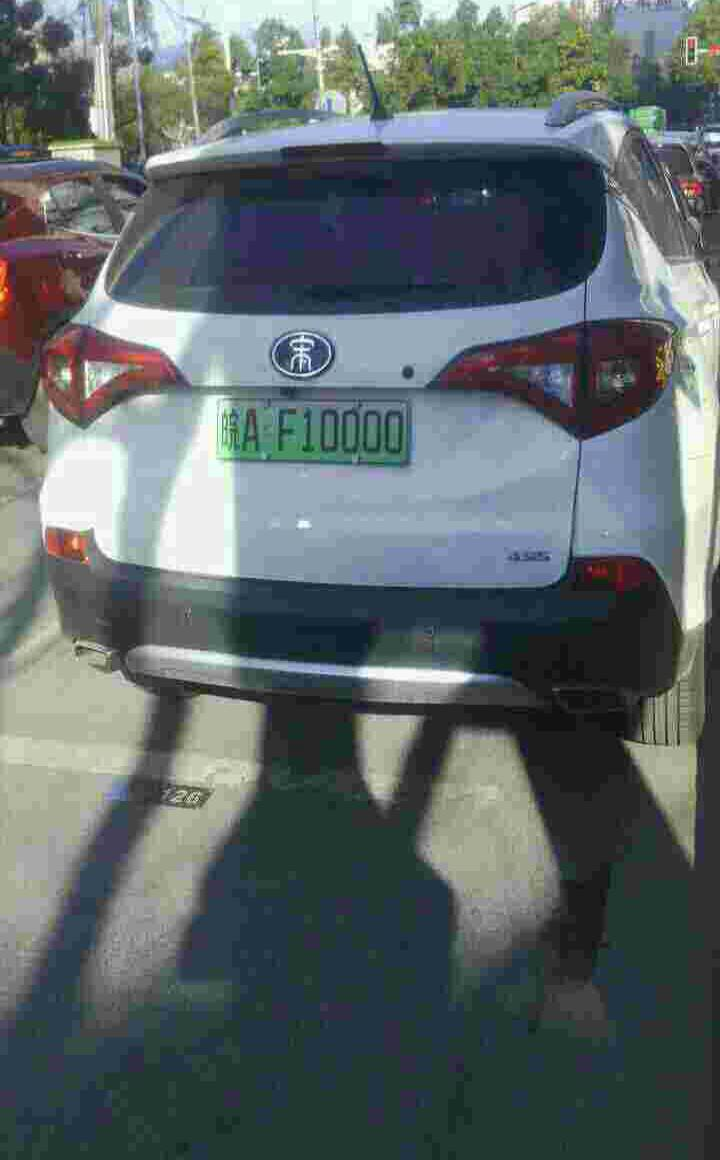car: (209, 393, 420, 475)
